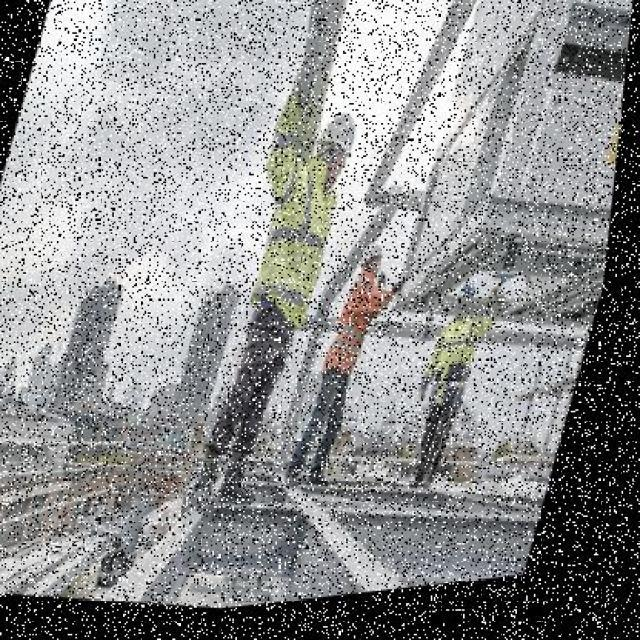helmet: (311, 114, 365, 182), (360, 243, 398, 292)
vest: (249, 158, 356, 344)
